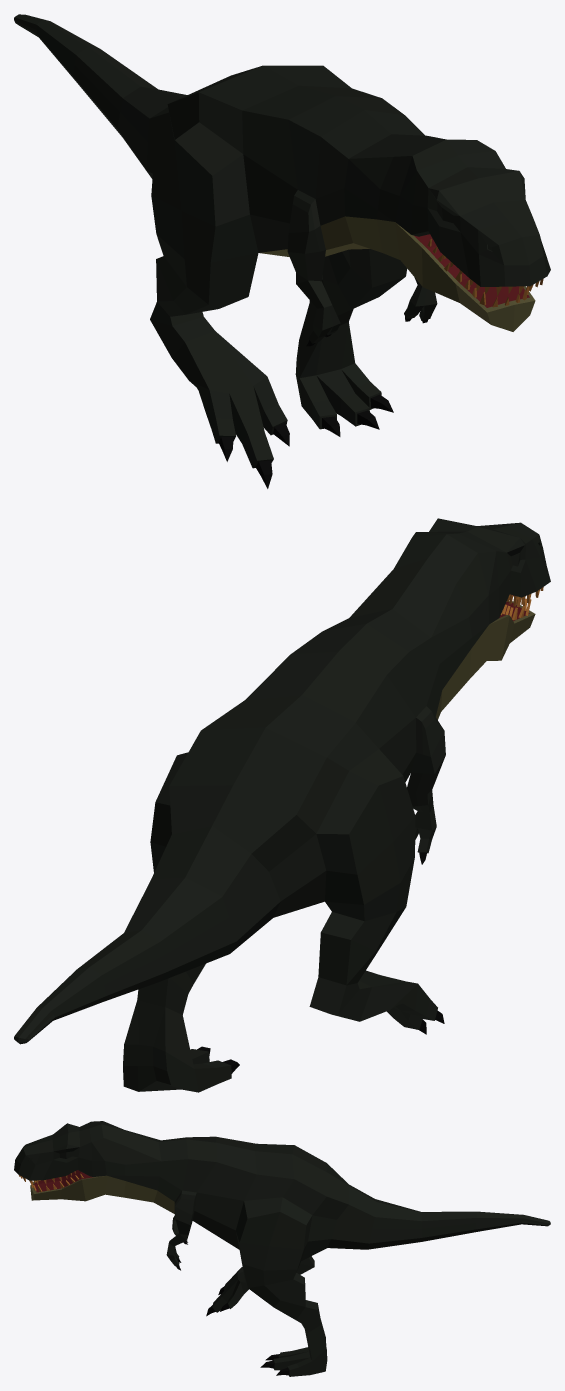
Rendered from Trex_000011.obj.
The picture shows the model from 3 angles, top to bottom: view 1: azimuth 30°, elevation 25°; view 2: azimuth 150°, elevation 25°; view 3: azimuth 270°, elevation 25°; orthographic projection. The views are drawn at different scales.
Visible parts, largest first — view 1: Trex_Cylinder; view 2: Trex_Cylinder; view 3: Trex_Cylinder.
Boxes of the visible parts, x1,y1,x2,y2 form: Trex_Cylinder: [14, 14, 550, 488]; Trex_Cylinder: [14, 518, 550, 1092]; Trex_Cylinder: [14, 1121, 550, 1376].
Bounding box in the file's own units: 7.96 × 14.48 × 31.47.
